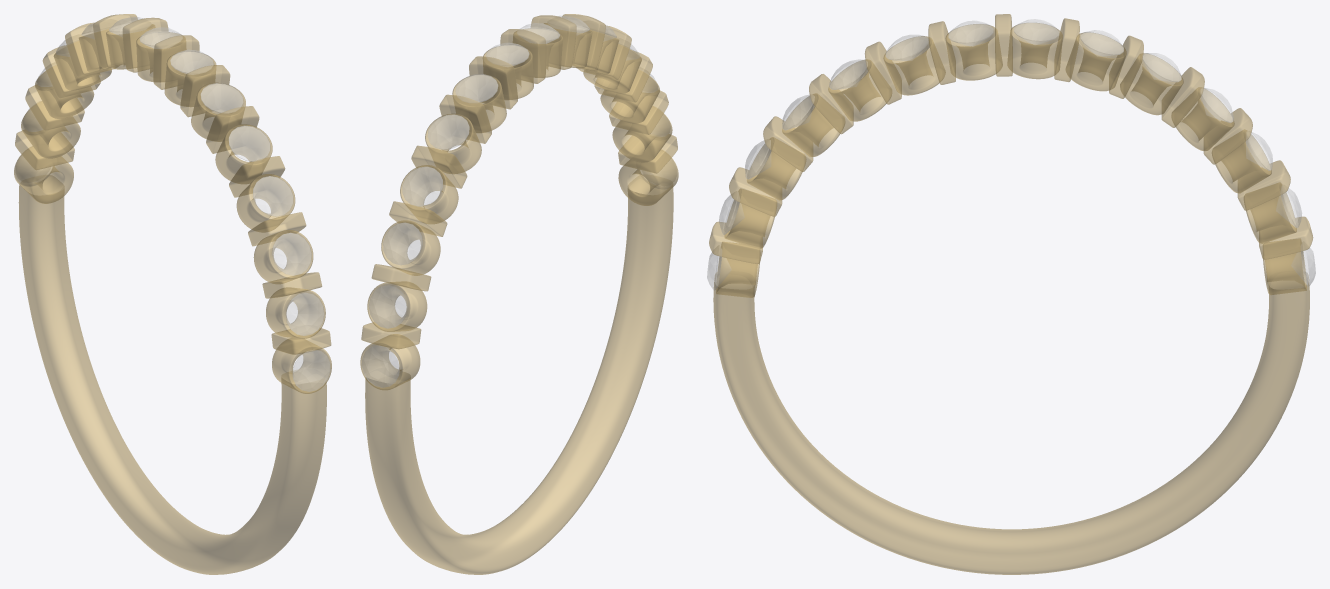
3 renders of one model, left to right at view 1: azimuth 30°, elevation 25°; view 2: azimuth 150°, elevation 25°; view 3: azimuth 270°, elevation 25°, orthographic. The views are drawn at different scales.
Parts seen in each view (by area): view 1: Ring, Diamond; view 2: Ring, Diamond; view 3: Ring, Diamond.
Part boxes in pixels (x1=…): Ring: x1=14, y1=14, x2=331, y2=574; Diamond: x1=16, y1=17, x2=330, y2=391; Ring: x1=360, y1=14, x2=678, y2=574; Diamond: x1=362, y1=16, x2=676, y2=387; Ring: x1=709, y1=14, x2=1313, y2=574; Diamond: x1=707, y1=19, x2=1315, y2=290.
Bounding box in the file's own units: 0.2034 × 2.33 × 2.33.
